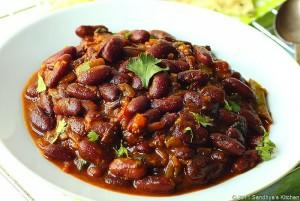RajmaCurry: (22, 23, 275, 193)
